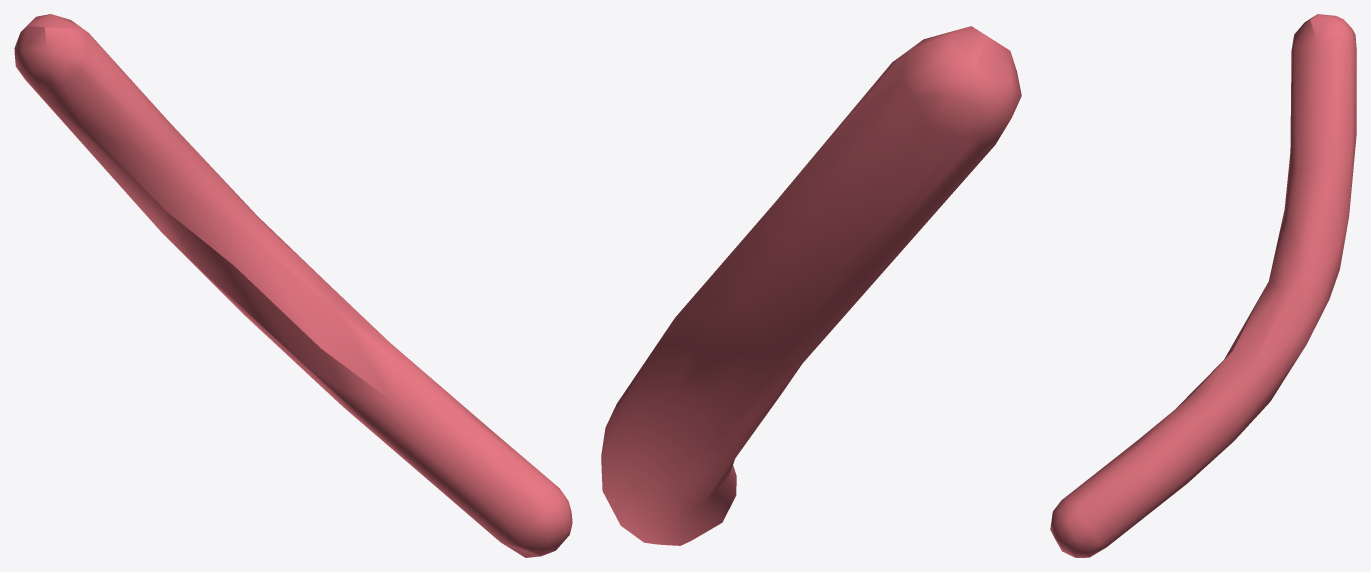
File: fma50685_fj1677m.glb
The picture shows the model from 3 angles, left to right: view 1: azimuth 30°, elevation 25°; view 2: azimuth 150°, elevation 25°; view 3: azimuth 270°, elevation 25°; orthographic projection. The views are drawn at different scales.
Visible parts, largest first — view 1: FMA50685_FJ1677M; view 2: FMA50685_FJ1677M; view 3: FMA50685_FJ1677M.
Boxes of the visible parts, <box> form: FMA50685_FJ1677M: <box>14,14,572,557</box>; FMA50685_FJ1677M: <box>601,26,1021,545</box>; FMA50685_FJ1677M: <box>1050,14,1356,557</box>.
Bounding box in the file's own units: 0.0055 × 0.00672 × 0.00457.
